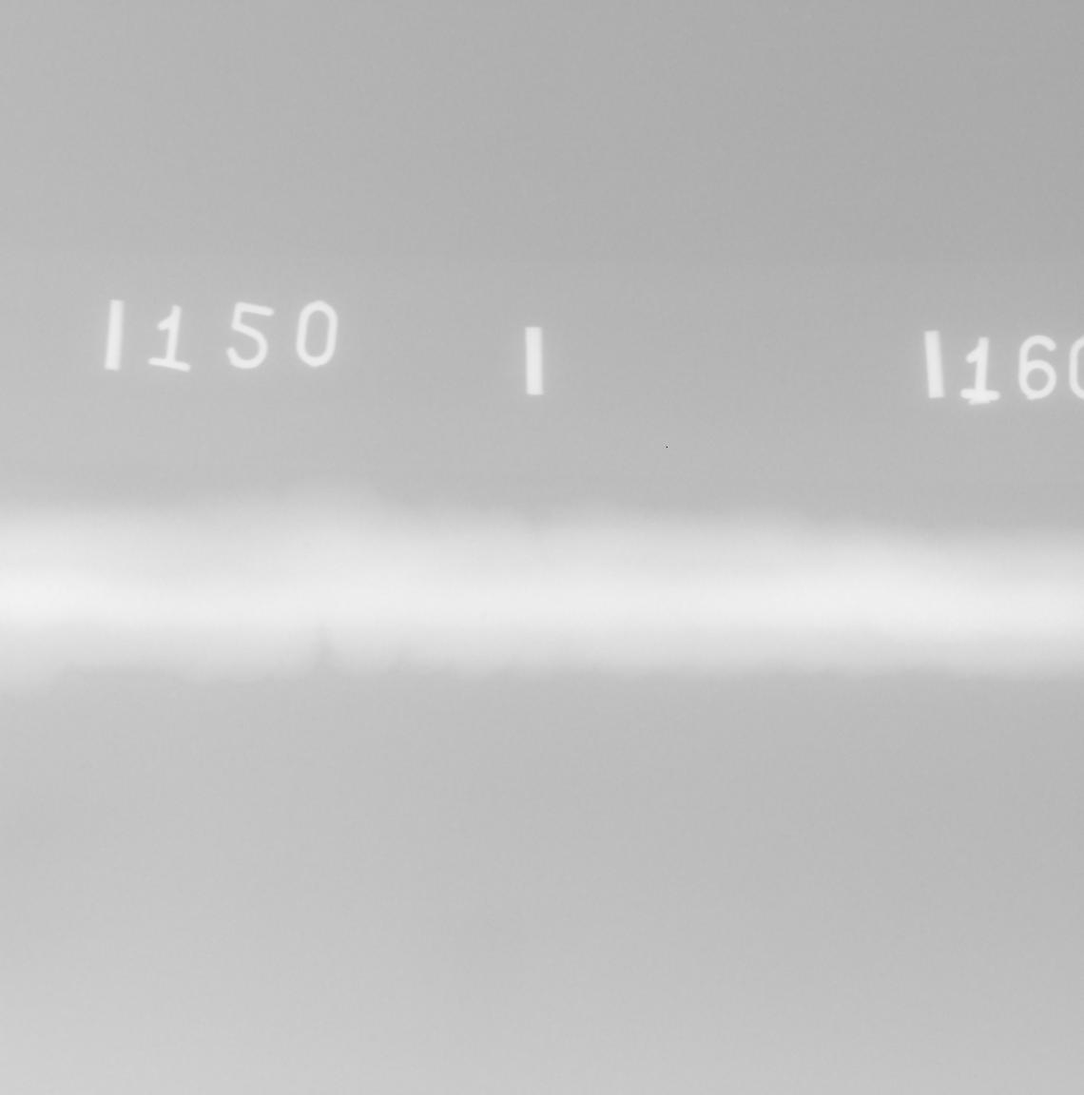Inclusion: (478, 613, 491, 622), (300, 541, 313, 549)
